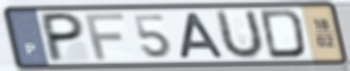5: (131, 13, 173, 59)
A: (178, 11, 228, 61)
D: (258, 8, 309, 60)
F: (82, 12, 127, 62)
P: (41, 11, 86, 64)
U: (215, 8, 267, 62)
